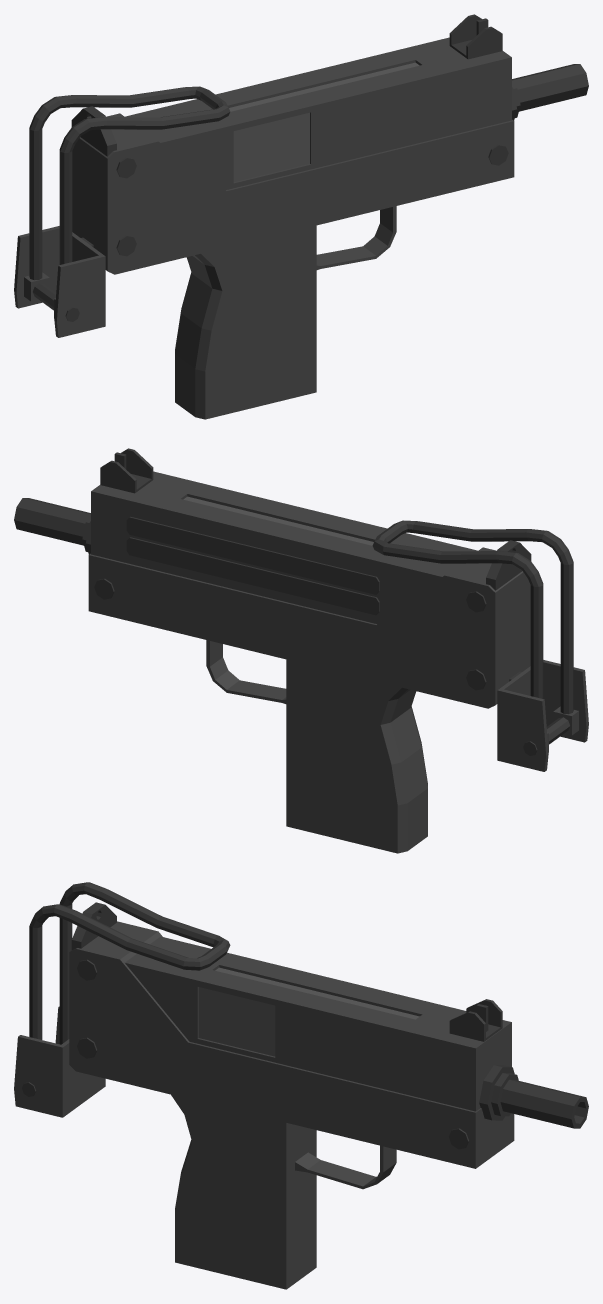
The model's file is SMG1_01.fbx.
The picture shows the model from 3 angles, top to bottom: view 1: azimuth 30°, elevation 25°; view 2: azimuth 150°, elevation 25°; view 3: azimuth 330°, elevation 25°; orthographic projection.
Parts seen in each view (by area): view 1: SMG1_01; view 2: SMG1_01; view 3: SMG1_01.
Part boxes in pixels (x1=…): SMG1_01: x1=14, y1=14, x2=588, y2=419; SMG1_01: x1=14, y1=448, x2=588, y2=853; SMG1_01: x1=14, y1=882, x2=588, y2=1289.
Size of the model in its own units: 0.2805 by 0.162 by 0.0396.
